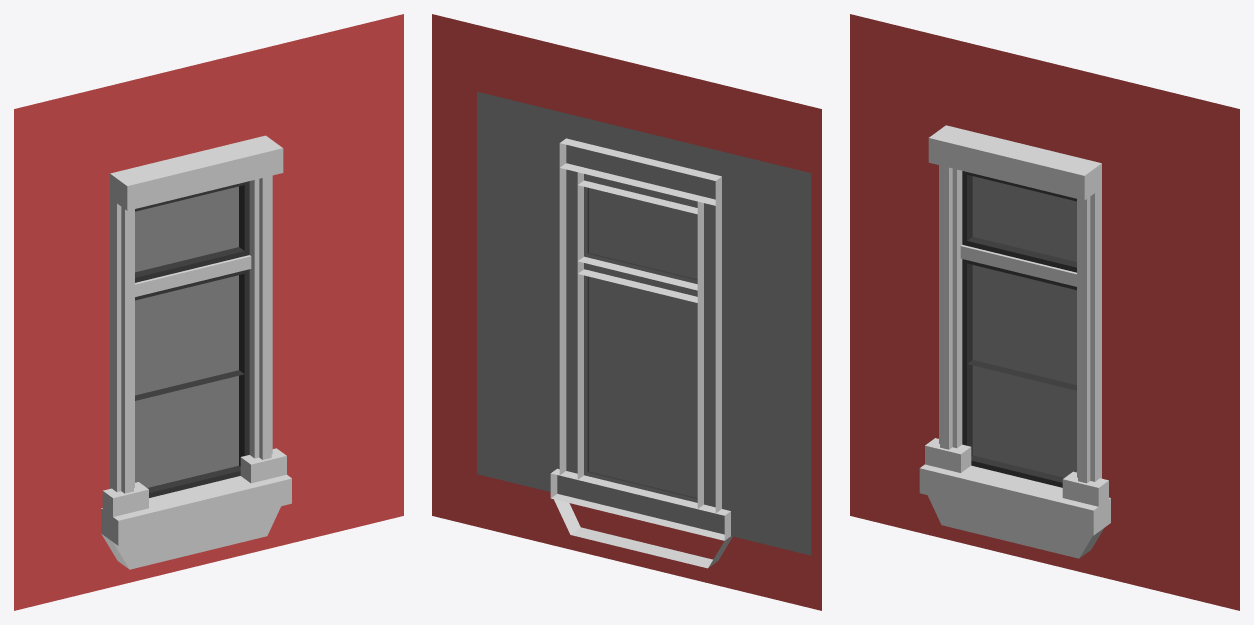
The model's file is object_B1_Top_floor_window_corner.glb.
The picture shows the model from 3 angles, left to right: view 1: azimuth 30°, elevation 25°; view 2: azimuth 150°, elevation 25°; view 3: azimuth 330°, elevation 25°; orthographic projection.
Visible parts, largest first — view 1: B1 Top floor window corner; view 2: B1 Top floor window corner; view 3: B1 Top floor window corner.
Part boxes in pixels (x1,y1,x2,y2): B1 Top floor window corner: (14, 14, 403, 610); B1 Top floor window corner: (432, 14, 821, 610); B1 Top floor window corner: (850, 14, 1239, 610).
Size of the model in its own units: 3.25 by 4 by 0.4.
